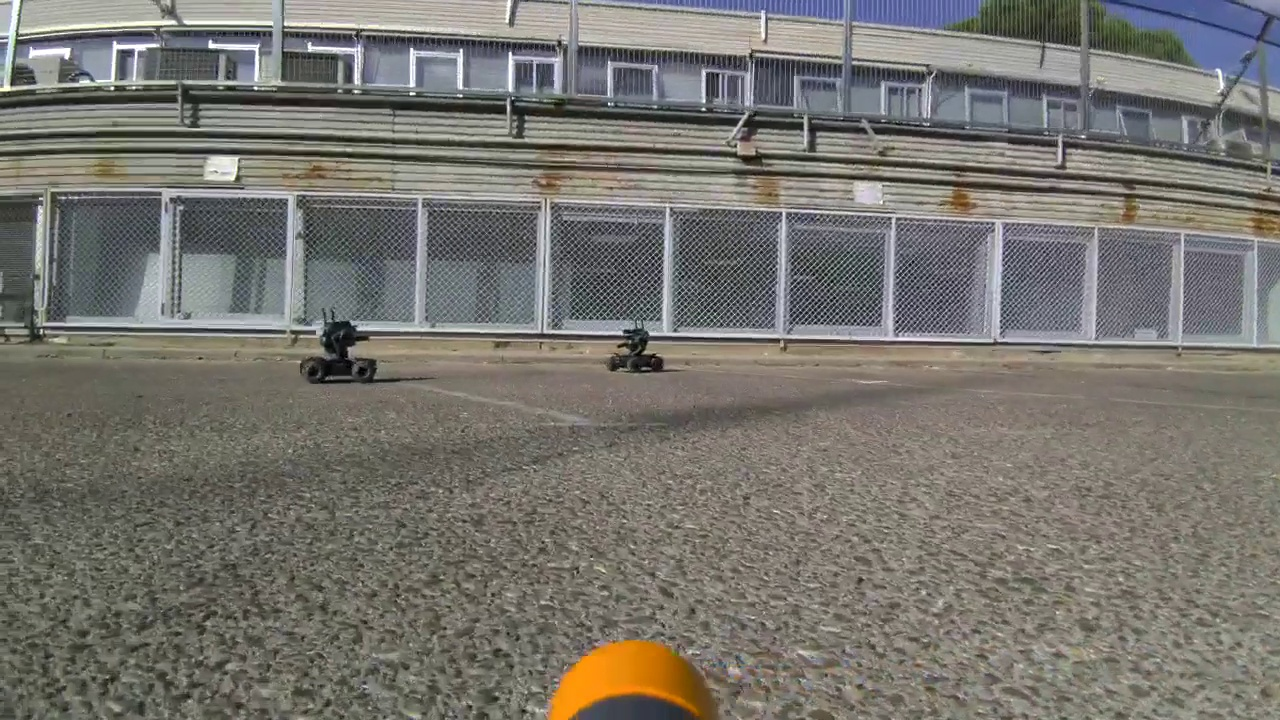robot: (298, 316, 381, 394), (604, 311, 661, 383)
